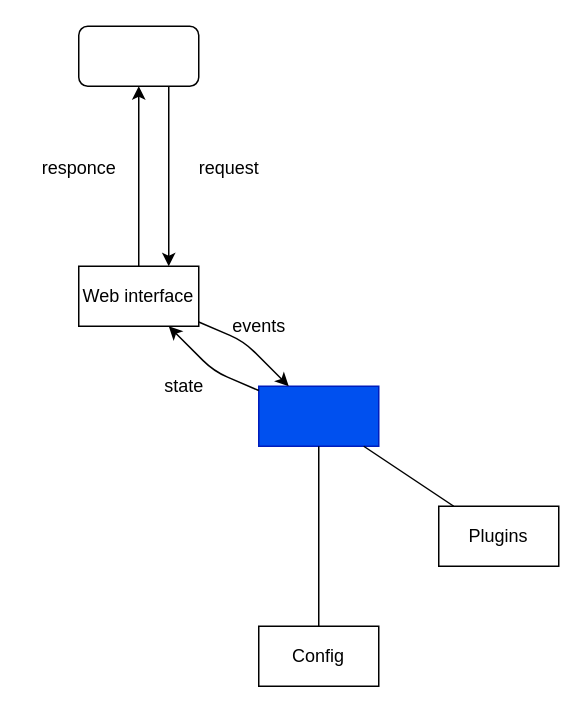
Some shapes in this 585 by 713 pixel diagram are drawn without their labels. The box of each missing label's shape, as (x1, y1, x2, y2) in pixels:
Deck: (257, 385, 379, 446)
Frontend: (77, 25, 199, 86)
